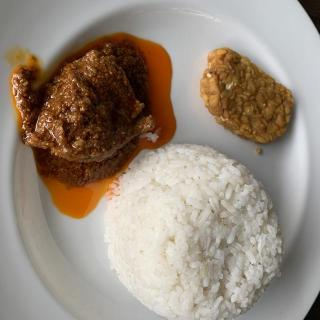Nasi: (108, 146, 284, 320)
